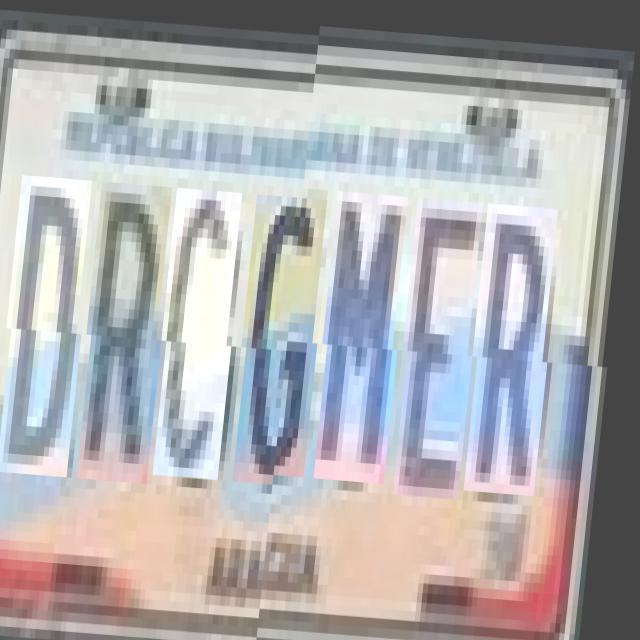C: (163, 184, 251, 476)
D: (7, 175, 101, 475)
E: (402, 200, 491, 500)
G: (243, 190, 336, 480)
M: (323, 195, 416, 486)
R: (87, 180, 181, 480), (473, 204, 566, 496)
